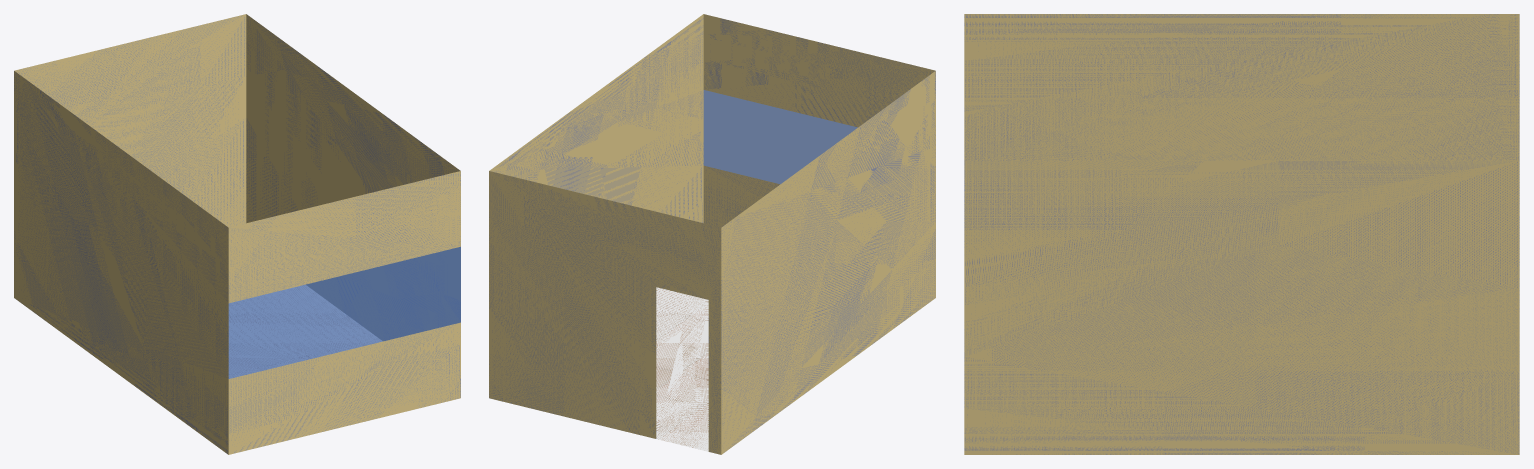
File: LAB007.obj
3 views of the same model, side by side, from view 1: azimuth 30°, elevation 25°; view 2: azimuth 150°, elevation 25°; view 3: azimuth 270°, elevation 25° (orthographic). The views are drawn at different scales.
Visible parts, largest first — view 1: Mesh1 LAB007 Model; view 2: Mesh1 LAB007 Model; view 3: Mesh1 LAB007 Model.
Boxes of the visible parts, x1=… form: Mesh1 LAB007 Model: x1=14, y1=14, x2=460, y2=454; Mesh1 LAB007 Model: x1=489, y1=14, x2=935, y2=454; Mesh1 LAB007 Model: x1=964, y1=14, x2=1519, y2=454.
Size of the model in its own units: 3.2 by 3 by 5.12.
Materials: 5 (1 with a texture image).
